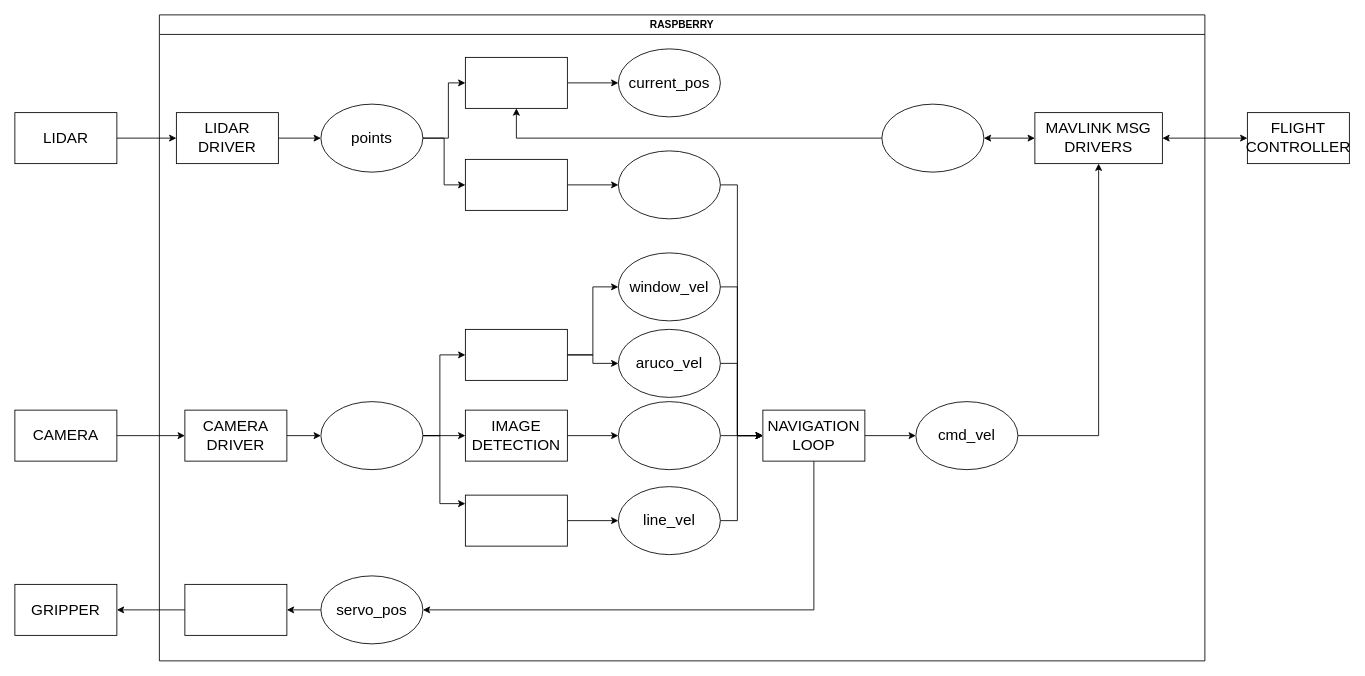
This 1365x676 diagram has some shape labels left out. Each missing label, with the box of its shape:
ARUCO DETECTION: (465, 329, 567, 380)
auto_nav_vel: (618, 150, 720, 219)
AUTOMATIC NAVIGATION: (465, 159, 567, 210)
image_raw: (320, 401, 423, 470)
image_vel: (618, 401, 720, 470)
LINE DETECTION: (465, 494, 567, 546)
mav_msg: (881, 103, 984, 172)
PRECISE POSITIONING: (465, 57, 567, 108)
SERVO DRIVER: (184, 584, 287, 635)
